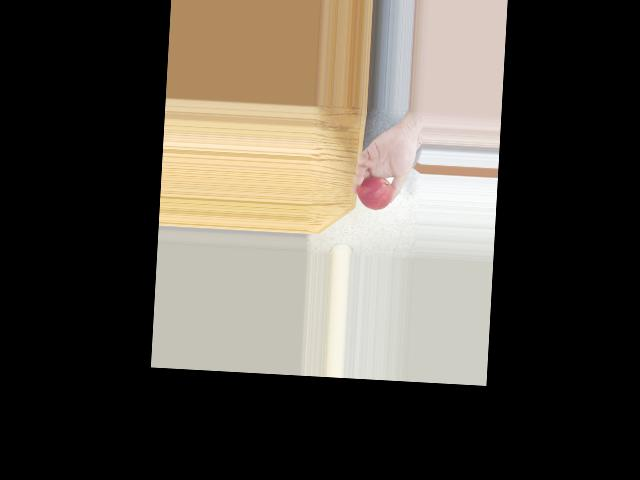apple: (357, 174, 393, 212)
